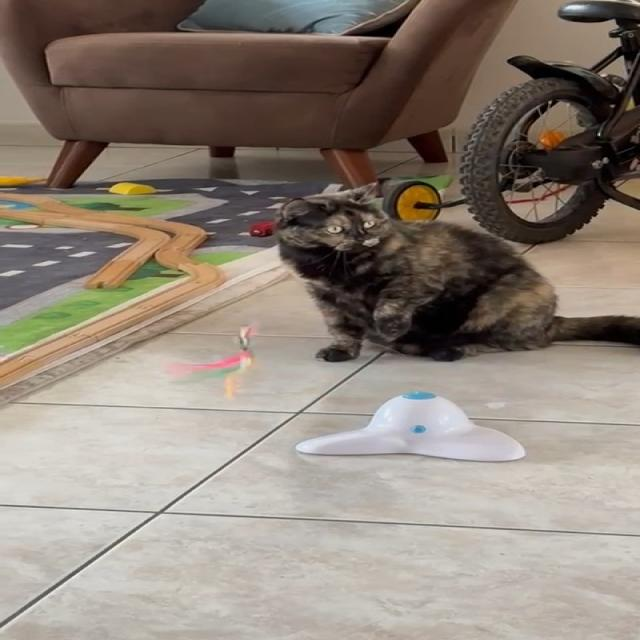authorized: (271, 180, 638, 363)
